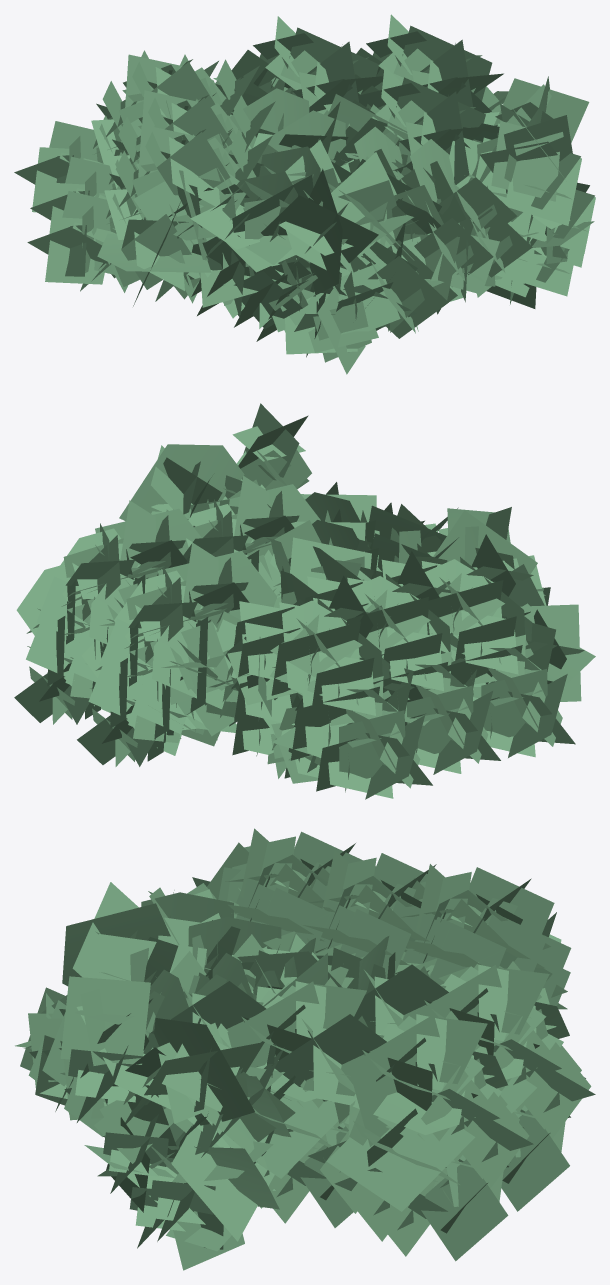
The model's file is Canopy.fbx.
3 views of the same model, one above another, from view 1: azimuth 30°, elevation 25°; view 2: azimuth 150°, elevation 25°; view 3: azimuth 270°, elevation 25° (orthographic). The views are drawn at different scales.
Visible parts, largest first — view 1: Canopy; view 2: Canopy; view 3: Canopy.
Boxes of the visible parts, box(x1,y1,x2,y2) form: Canopy: box(14, 14, 595, 374); Canopy: box(14, 403, 595, 799); Canopy: box(15, 828, 595, 1270).
Bounding box in the file's own units: 3652 × 1602 × 3138.
